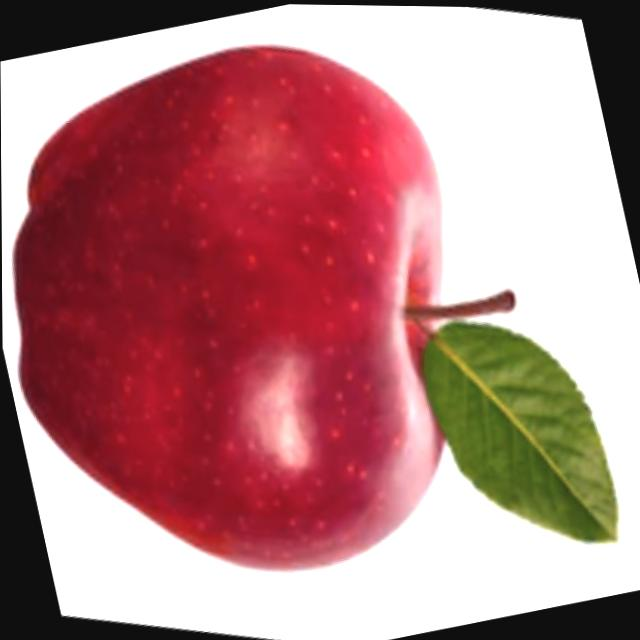organik: (0, 0, 540, 630)
